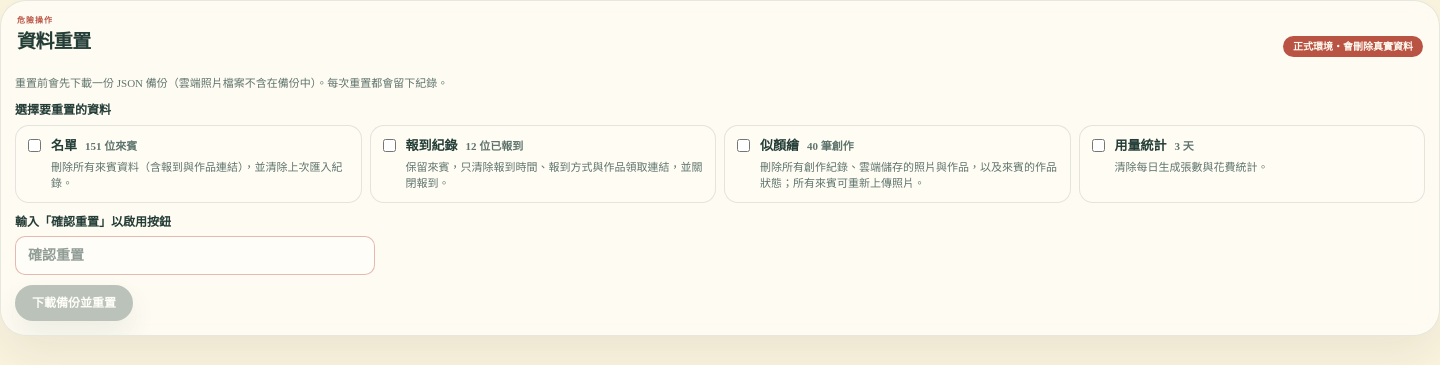
Test case: AdminResetPanel › stays disabled until a category is chosen and the phrase is typed
Expected: the text "正式環境・會刪除真實資料" is shown, x1=1283 y1=36 x2=1423 y2=56
Expected: the button with class "admin-reset-button" is disabled, x1=15 y1=284 x2=133 y2=320
Click the checkbox labelled "報到紀錄 12 位已報到 保留來賓，只清除報到時間、報到方式與作品領取連結，並關閉報到。" at (389, 146), box x1=382 y1=139 x2=396 y2=152
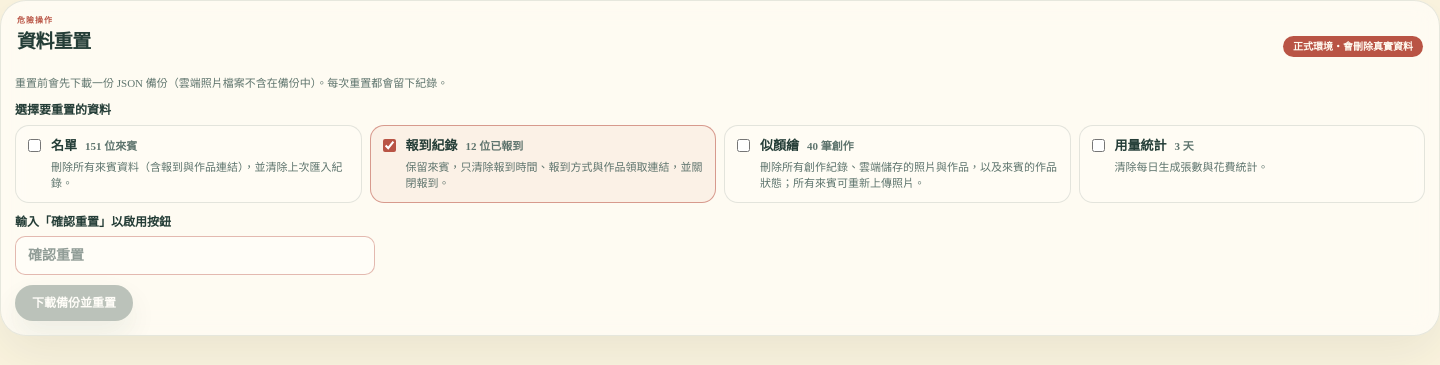
Expected: the button with class "admin-reset-button" is disabled, x1=15 y1=284 x2=133 y2=320
Type "確認" into the field labelled "輸入「確認重置」以啟用按鈕" at (195, 255), box x1=15 y1=236 x2=375 y2=274
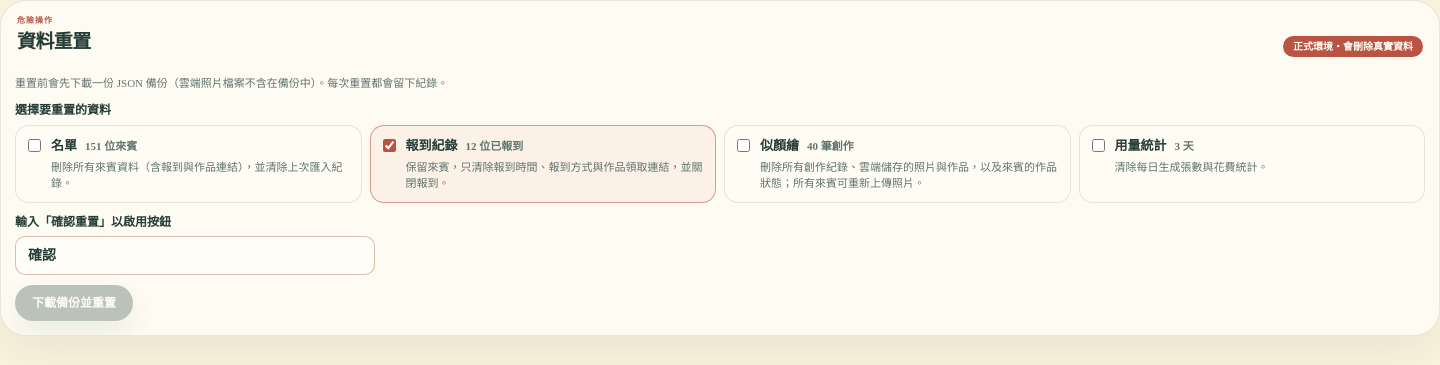
Expected: the button with class "admin-reset-button" is disabled, x1=15 y1=284 x2=133 y2=320
Replace the text in the field labelled "輸入「確認重置」以啟用按鈕" with "確認重置" at (195, 255), box x1=15 y1=236 x2=375 y2=274
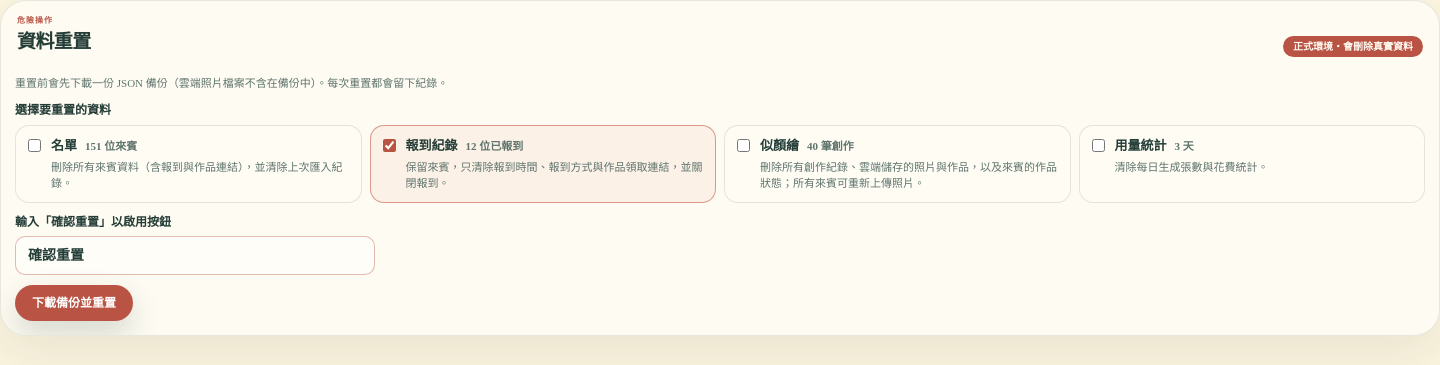
Expected: the button with class "admin-reset-button" is enabled, x1=15 y1=284 x2=133 y2=320
